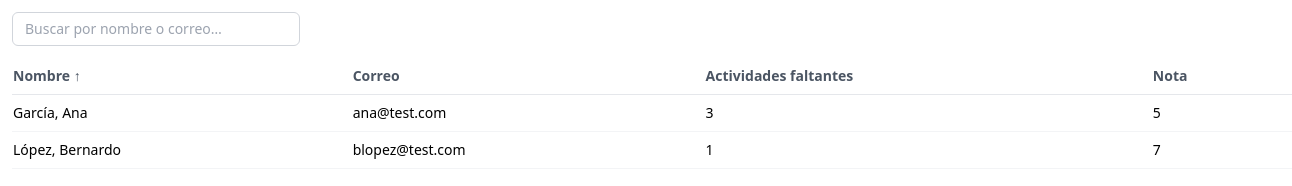
Test: TablaAtrasados › filters by nombre/correo text (case insensitive)
The width and height of the screenshot is (1292, 186).
In the field labelled "Buscar por nombre o correo…": point(156, 29) x1=12 y1=12 x2=300 y2=46, type "ana"
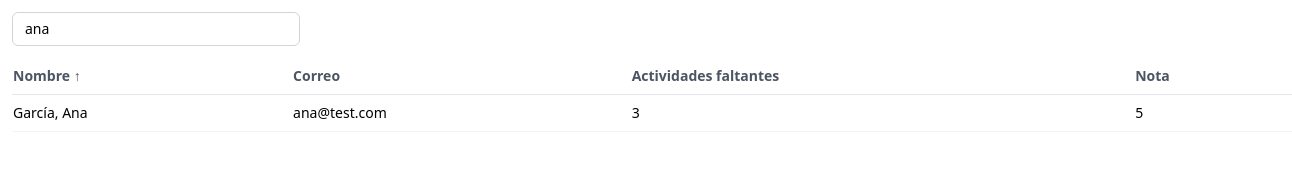
Check: the text "García, Ana" is shown, box x1=12 y1=94 x2=292 y2=132
Check: the text "López" is gone
